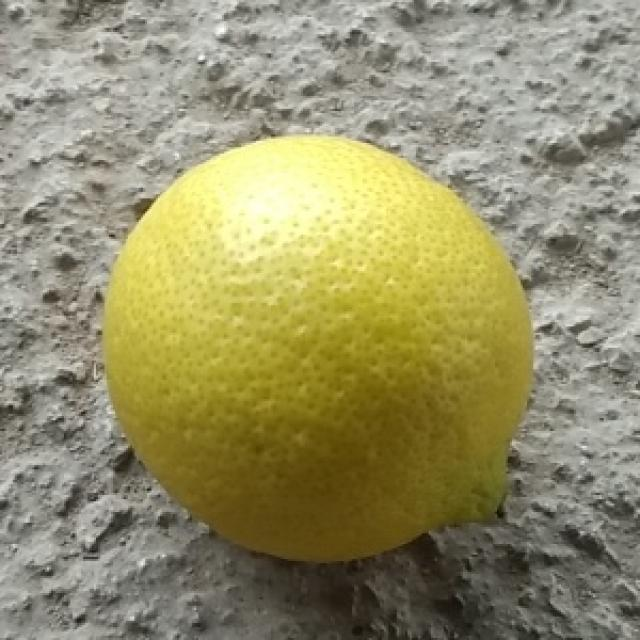Ripe: (100, 125, 546, 574)
